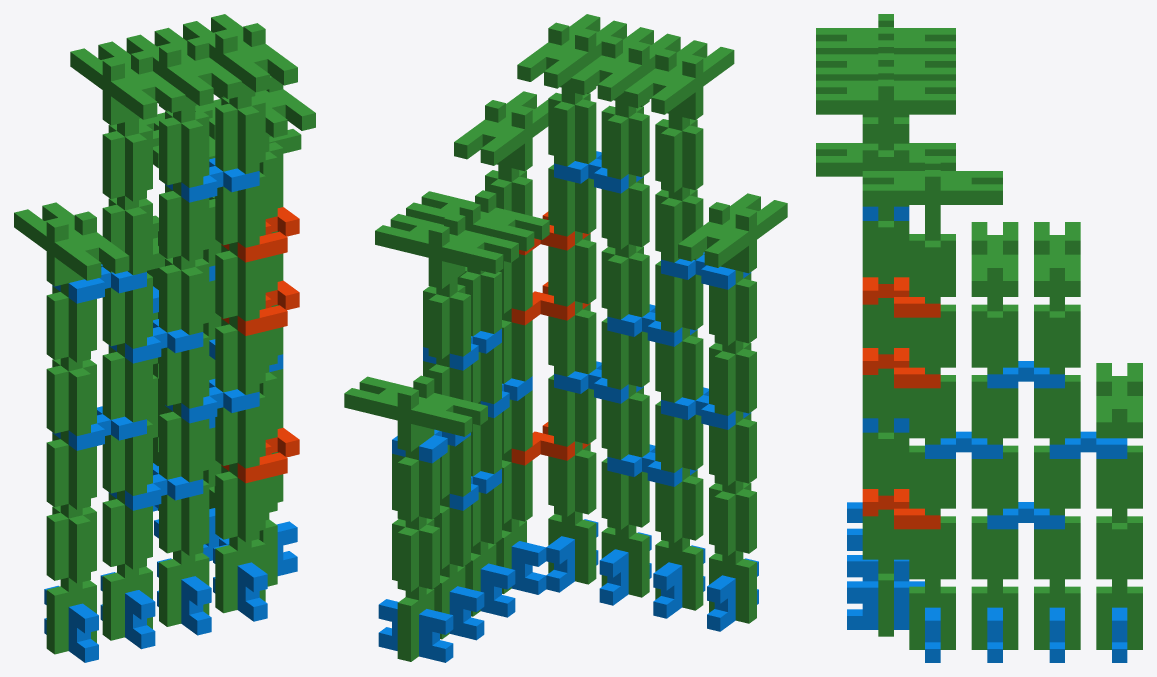
3 views of the same model, side by side, from view 1: azimuth 30°, elevation 25°; view 2: azimuth 150°, elevation 25°; view 3: azimuth 270°, elevation 25° (orthographic). The views are drawn at different scales.
Parts seen in each view (by area): view 1: H_SIM (×41), X_SIM (×11), L_SIM (×3); view 2: H_SIM (×53), X_SIM (×18), L_SIM (×3); view 3: H_SIM (×35), X_SIM (×12), L_SIM (×3).
Part boxes in pixels (x1,y1,x2,y2): H_SIM (×41): (14,14,315,654); X_SIM (×11): (44,158,297,662); L_SIM (×3): (221,207,299,483); H_SIM (×53): (344,14,787,661); X_SIM (×18): (378,151,758,662); L_SIM (×3): (511,211,590,465); H_SIM (×35): (816,28,1142,649); X_SIM (×12): (847,206,1127,662); L_SIM (×3): (862,277,940,529).
Size of the model in its own units: 2.73 by 5.07 by 2.73.
